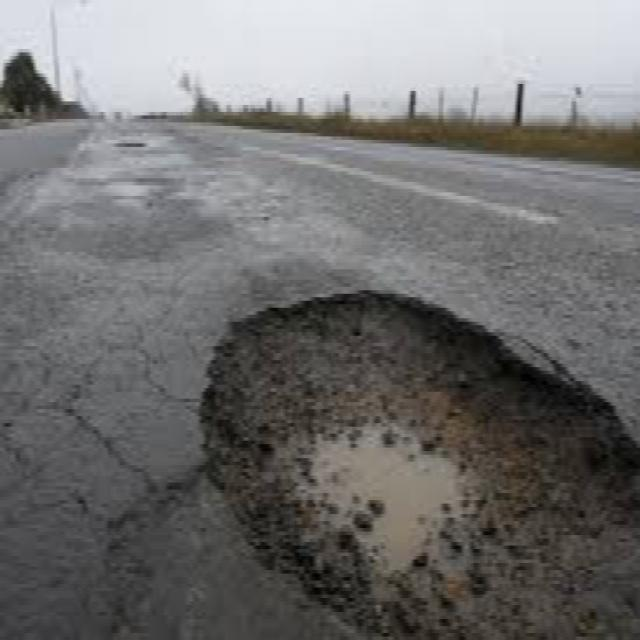Pothole: (192, 286, 640, 640), (92, 172, 182, 213), (111, 137, 153, 151)
